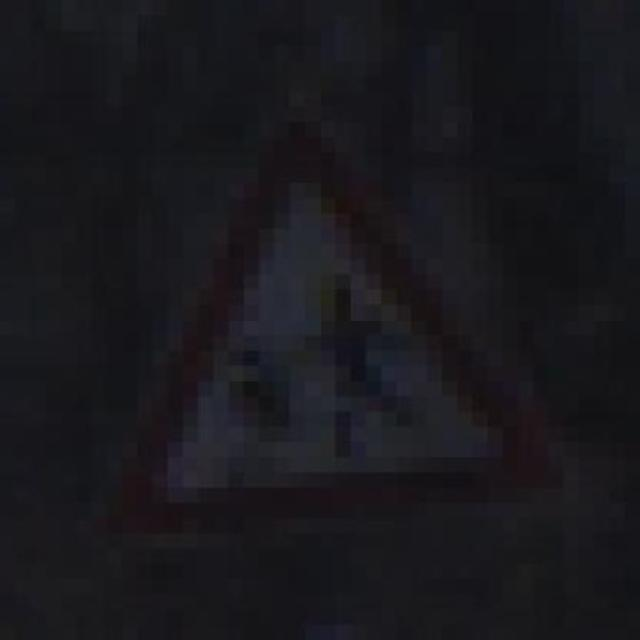Beware of children: (76, 92, 549, 533)
